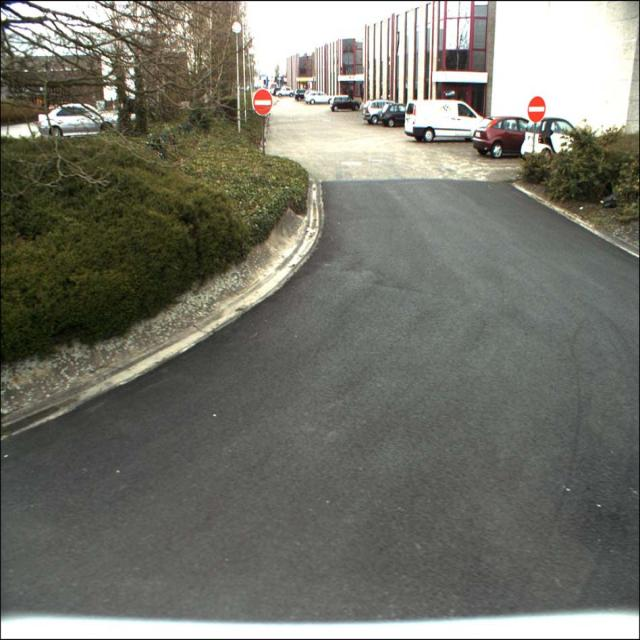girisyok: (253, 89, 273, 115), (528, 97, 546, 122)
